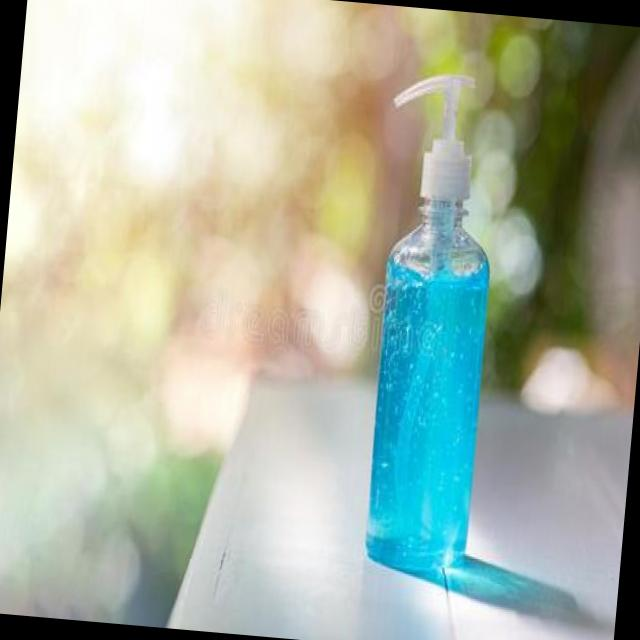sanitizer: (348, 61, 511, 575)
